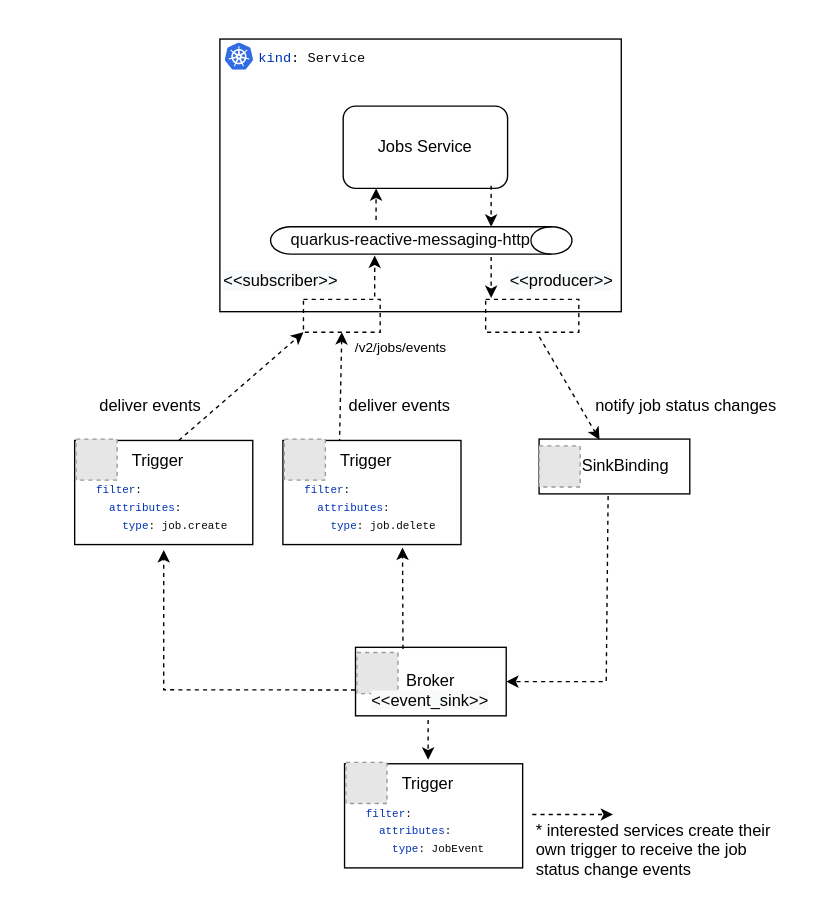
Image size: 836x903. Some labels were removed from this diagram. Grey dashed boxes stand in for pictures. Each missing label, with the centre of its shape:
"Endpoint" goes at (x=341, y=315).
"{$K_SINK}" goes at (x=531, y=315).
